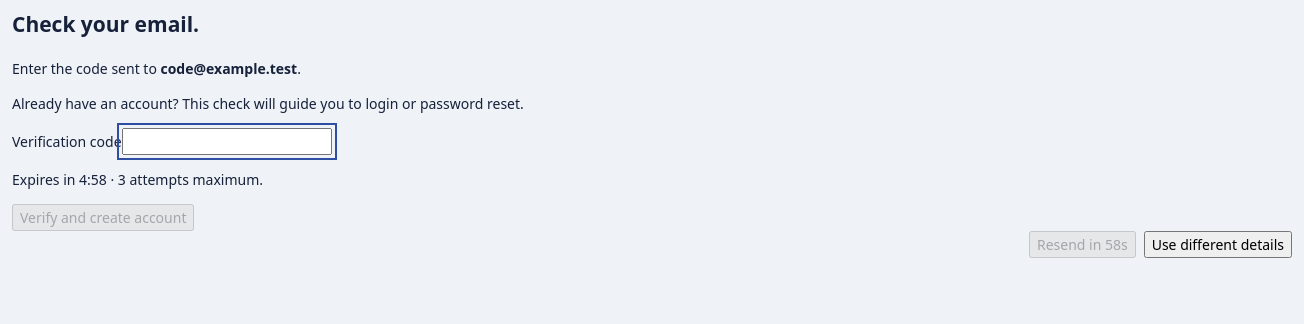
keeps the account uncreated on a wrong code and shows the attempt budget
The width and height of the screenshot is (1304, 324).
Step 1. Type "654321" into the field labelled "Verification code" → point(226, 142), box [122,128,332,155]
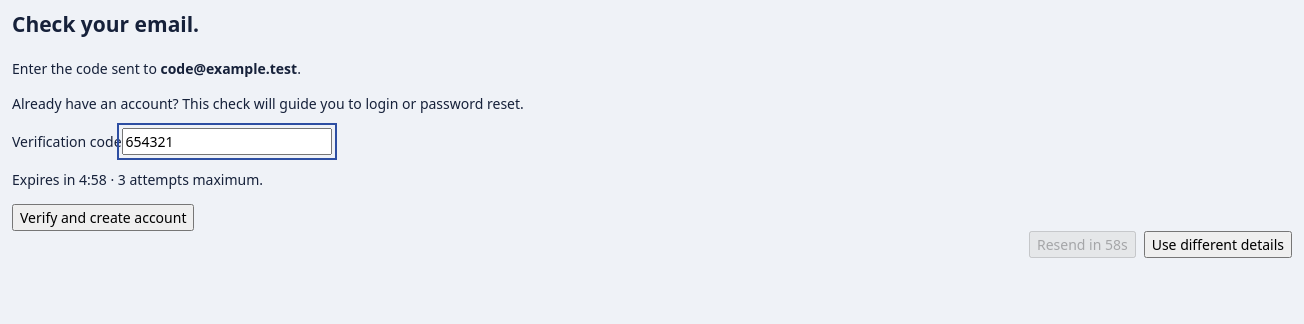
Step 2. Click the button "Verify and create account" → point(103, 218), box [12,204,194,231]
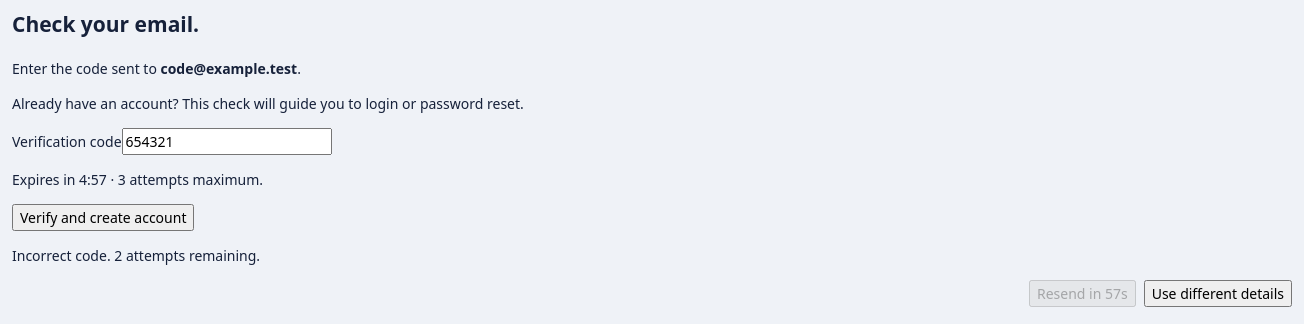
Now the text "Incorrect code. 2 attempts remaining." is shown, box [12,246,260,265]
